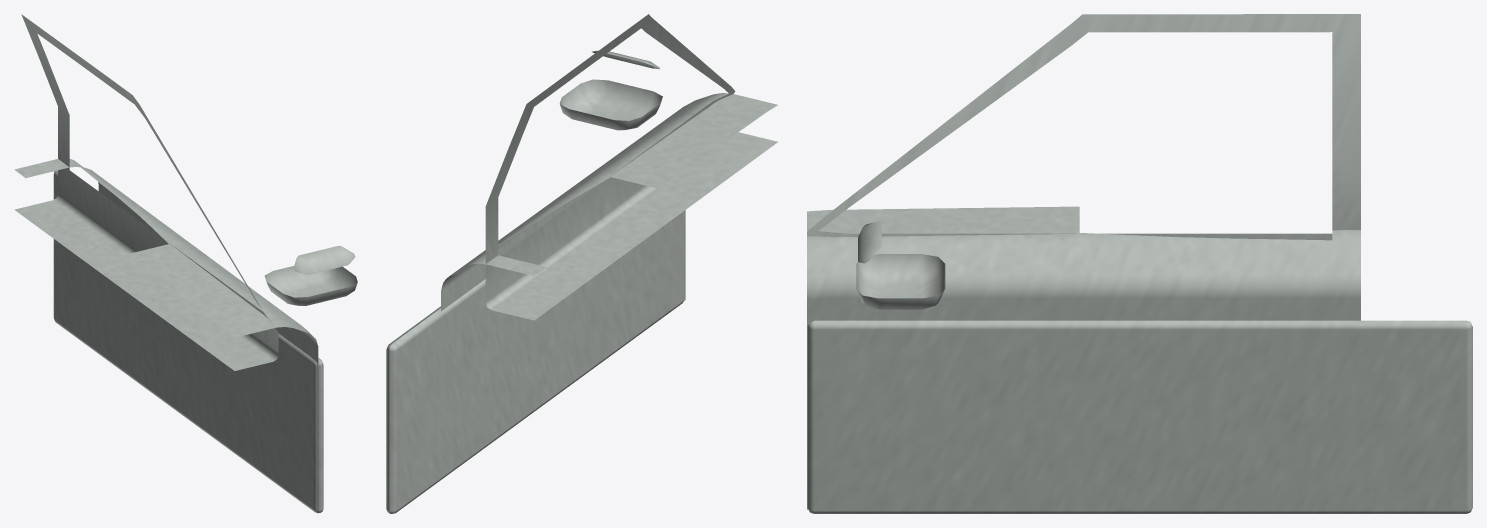
3 renders of one model, left to right at view 1: azimuth 30°, elevation 25°; view 2: azimuth 150°, elevation 25°; view 3: azimuth 270°, elevation 25°, orthographic. The views are drawn at different scales.
Size of the model in its own units: 0.4087 by 0.935 by 1.25.
Materials: 1 (1 with a texture image).
